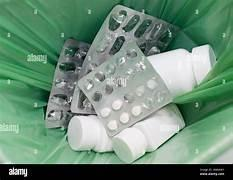pill_Strip: (78, 42, 171, 135), (80, 5, 178, 76), (45, 38, 89, 127), (120, 112, 129, 123)
